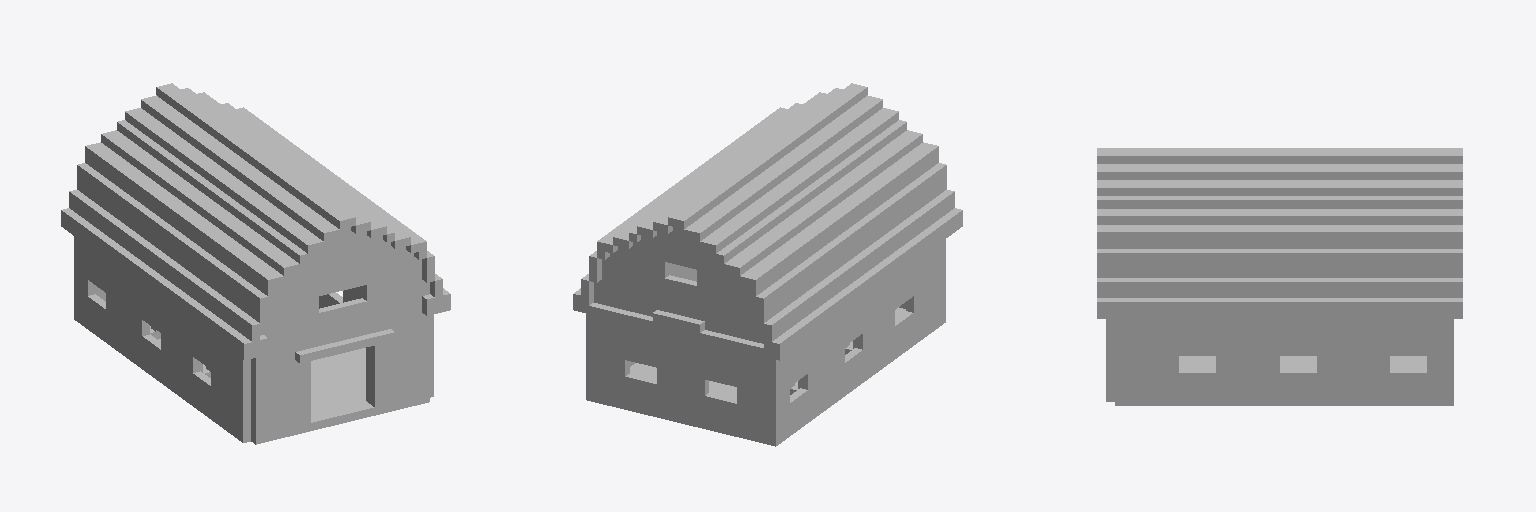
Rendered from barn.obj.
3 renders of one model, left to right at view 1: azimuth 30°, elevation 25°; view 2: azimuth 150°, elevation 25°; view 3: azimuth 270°, elevation 25°, orthographic.
Parts seen in each view (by area): view 1: object 1; view 2: object 1; view 3: object 1.
Boxes of the visible parts, x1=… form: object 1: x1=61, y1=83, x2=450, y2=444; object 1: x1=573, y1=83, x2=962, y2=446; object 1: x1=1097, y1=148, x2=1462, y2=405.
Bounding box in the file's own units: 2.6 × 2.5 × 4.